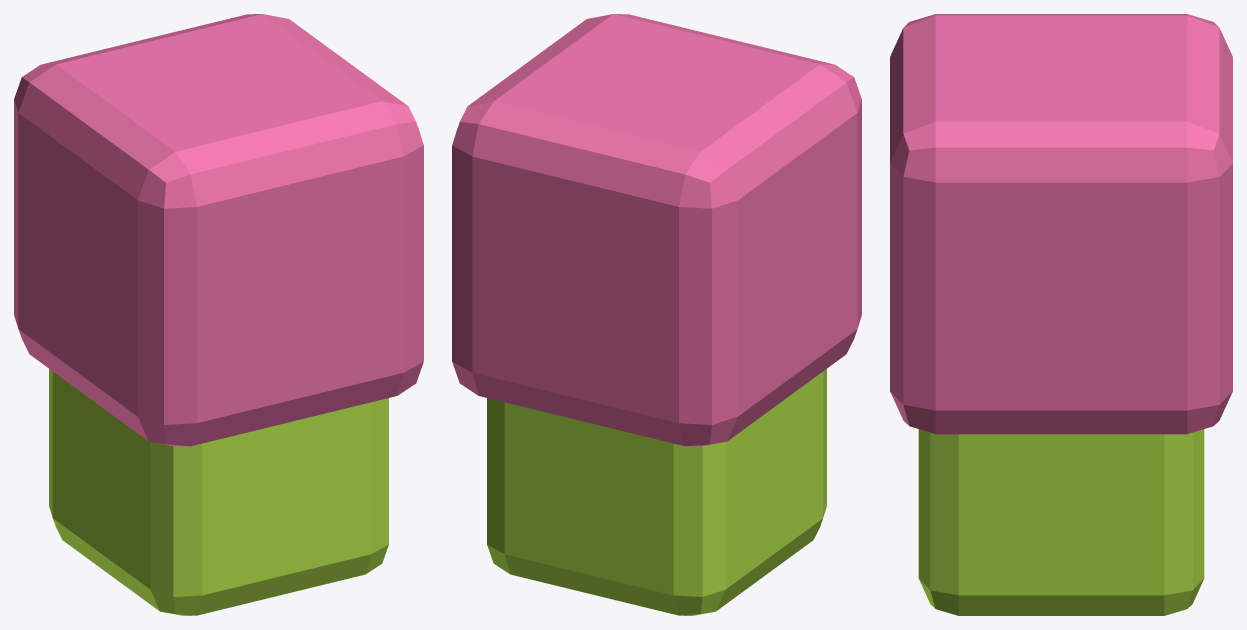
The model's file is jelly_cube.glb.
The picture shows the model from 3 angles, left to right: view 1: azimuth 30°, elevation 25°; view 2: azimuth 150°, elevation 25°; view 3: azimuth 270°, elevation 25°; orthographic projection. The views are drawn at different scales.
Visible parts, largest first — view 1: jelly_cube; view 2: jelly_cube; view 3: jelly_cube.
Boxes of the visible parts, x1,y1,x2,y2 form: jelly_cube: (14,14,423,615); jelly_cube: (452,14,861,615); jelly_cube: (890,14,1232,615).
Bounding box in the file's own units: 1.2 × 1.94 × 1.2.
